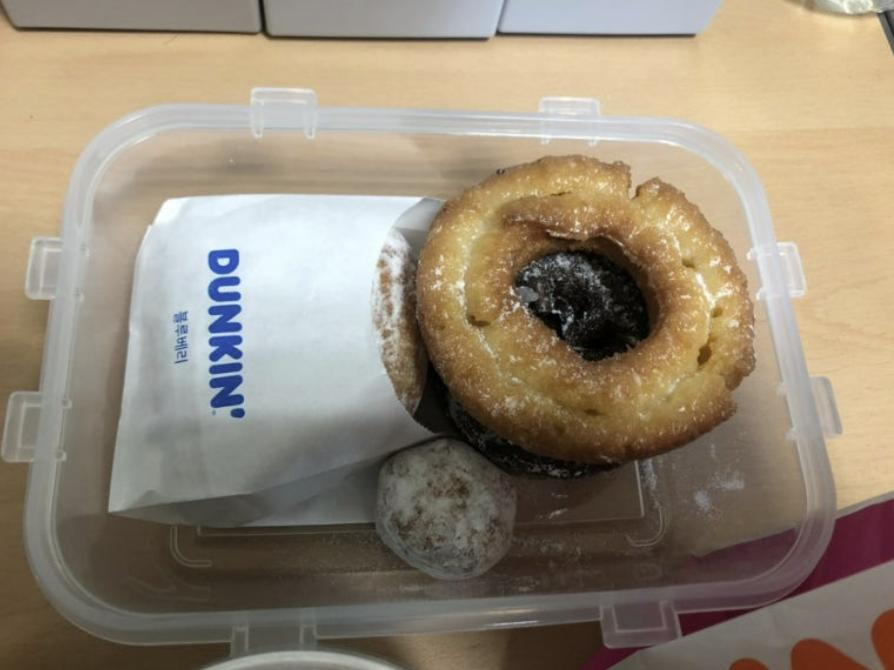Lunch Box: (3, 89, 839, 645)
